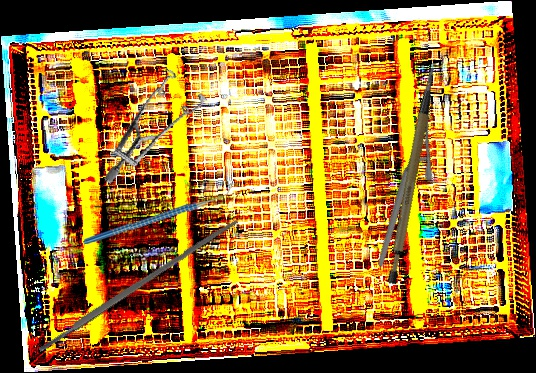Chopper: (83, 180, 236, 247)
Needle Holder: (327, 89, 481, 269)
Scalpel Handle: (36, 216, 240, 354), (359, 64, 470, 287)
Speculum: (79, 60, 223, 185)
